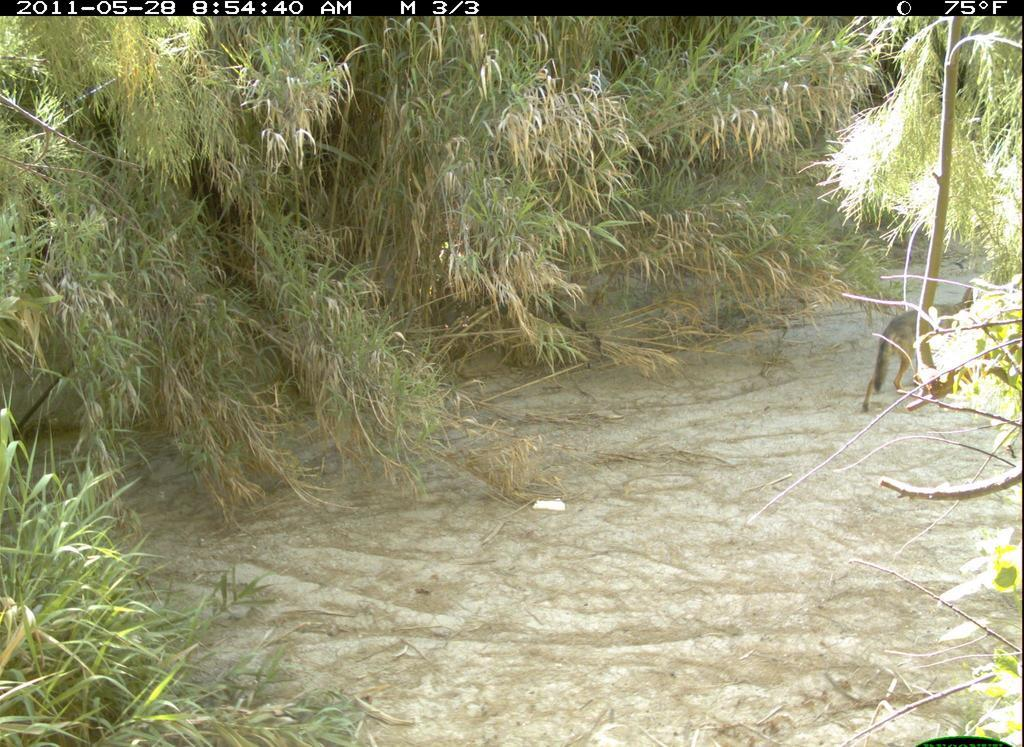coyote: (856, 283, 991, 420)
